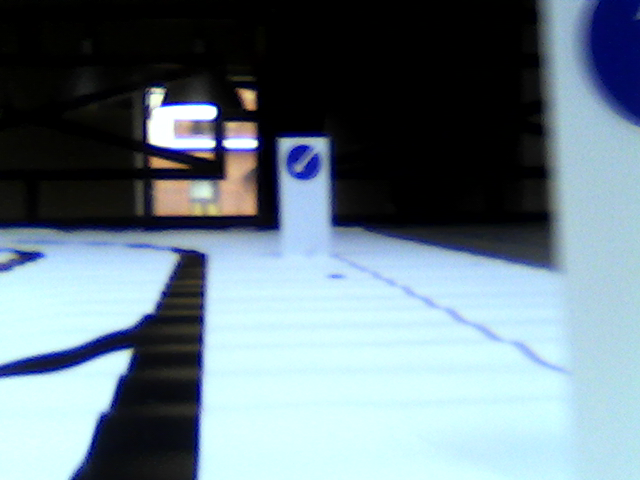prep: (286, 143, 320, 179)
